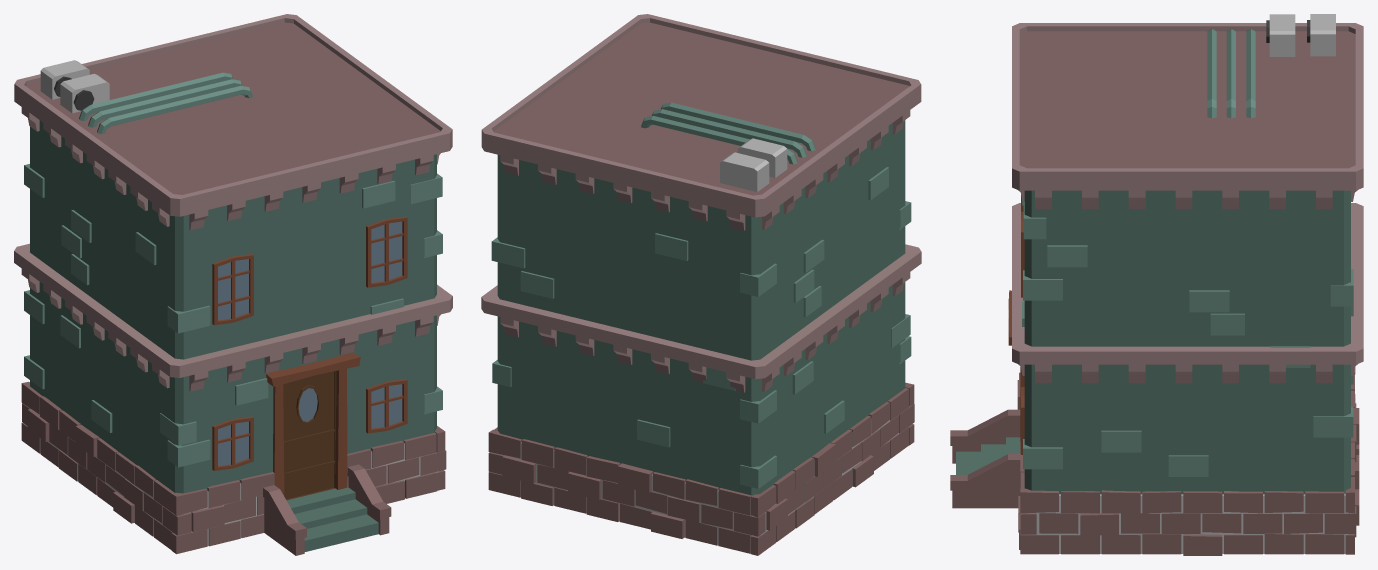
Rendered from 2Story_Stairs_Mat.glb.
3 renders of one model, left to right at view 1: azimuth 30°, elevation 25°; view 2: azimuth 150°, elevation 25°; view 3: azimuth 270°, elevation 25°, orthographic. The views are drawn at different scales.
Visible parts, largest first — view 1: 2Story_Stairs_Mat; view 2: 2Story_Stairs_Mat; view 3: 2Story_Stairs_Mat.
Part boxes in pixels (x1=…): 2Story_Stairs_Mat: x1=14, y1=14, x2=452, y2=555; 2Story_Stairs_Mat: x1=481, y1=14, x2=921, y2=555; 2Story_Stairs_Mat: x1=950, y1=14, x2=1363, y2=555.
Size of the model in its own units: 2.16 by 2.75 by 2.53.
